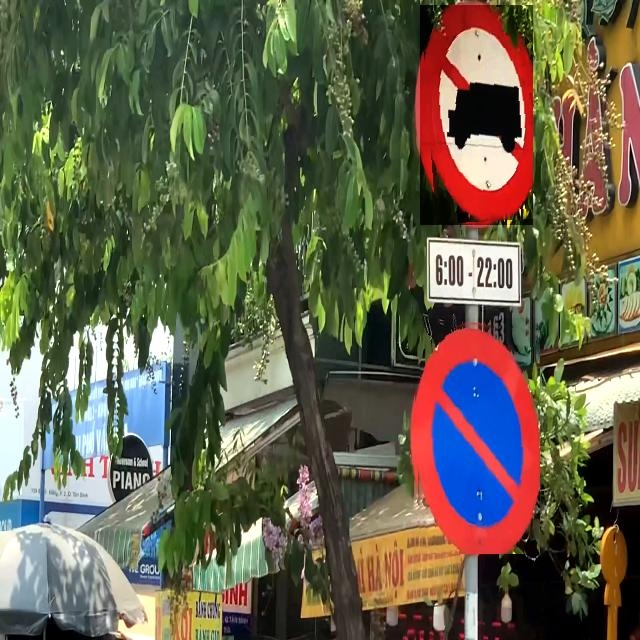bien_cam: (413, 318, 540, 554), (420, 6, 533, 226)
